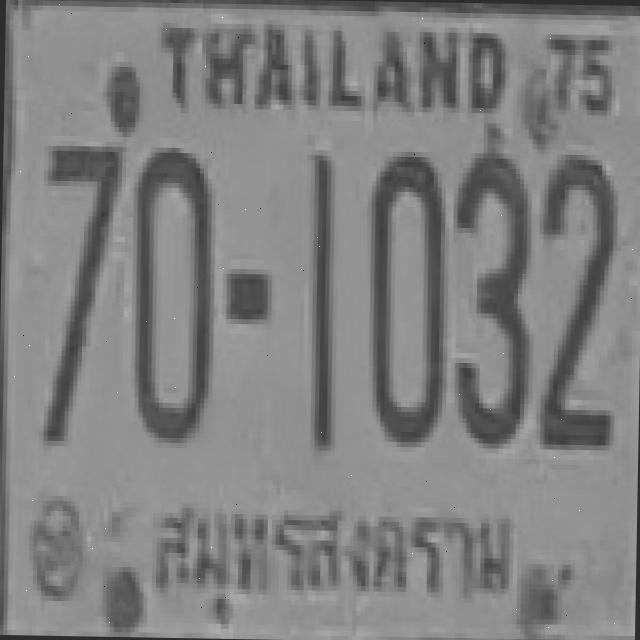0: (132, 144, 215, 440), (363, 151, 446, 442)
1: (309, 152, 333, 378)
2: (536, 154, 614, 395)
3: (449, 150, 528, 446), (448, 178, 528, 444)
7: (45, 140, 122, 327), (45, 140, 122, 306)
SamutSongkhram: (132, 485, 529, 632)
